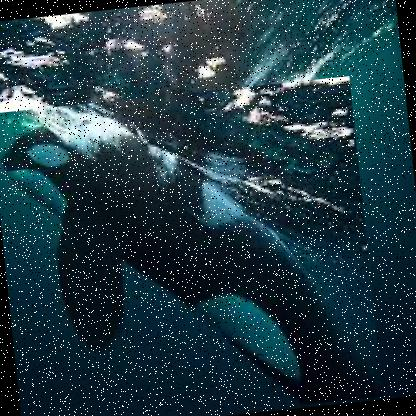killer_whale: (0, 75, 385, 415)
